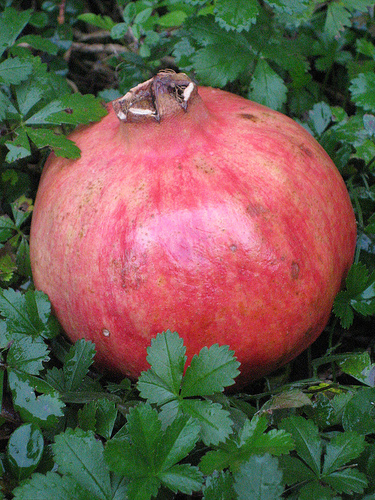pomogranate: (31, 68, 355, 391)
